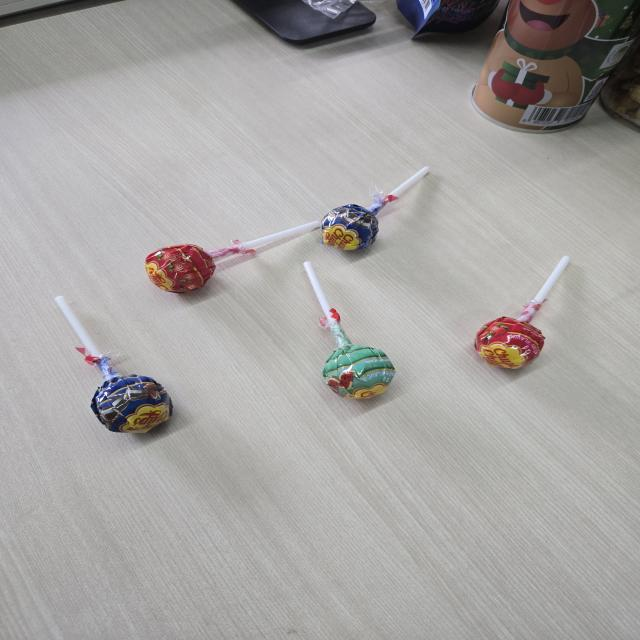lollipop: (51, 292, 175, 444), (145, 206, 326, 300), (297, 260, 401, 406), (472, 254, 575, 378), (318, 162, 438, 262)
